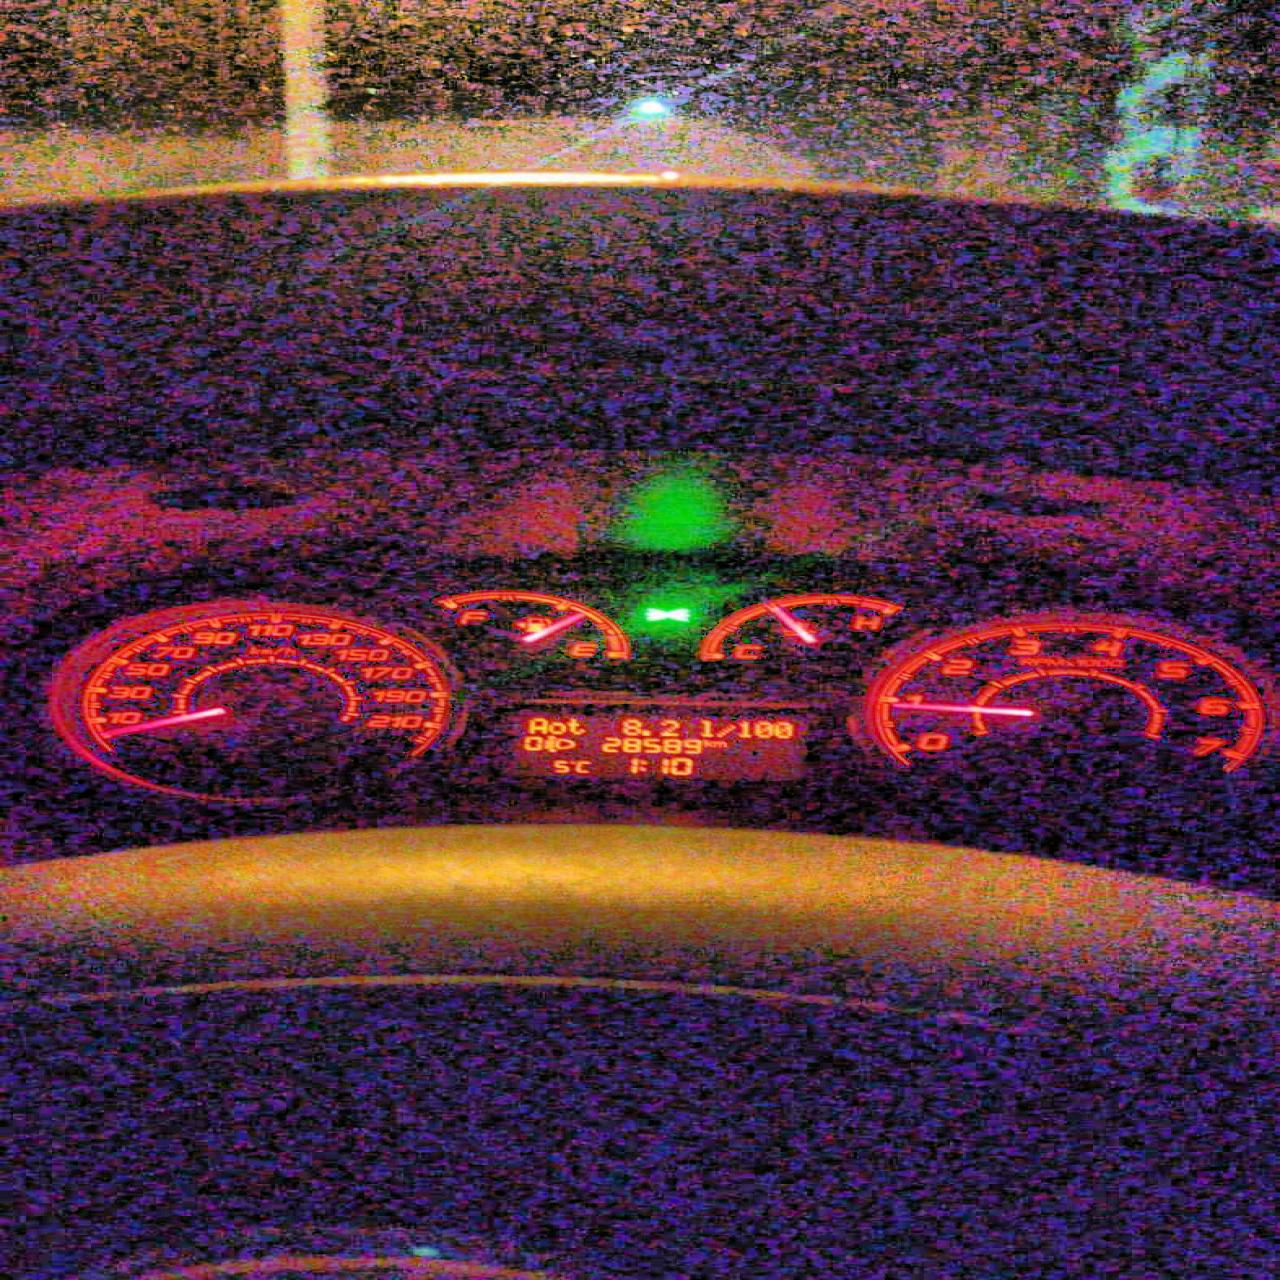-: (639, 728, 651, 735)
0: (668, 756, 692, 775), (772, 720, 794, 738), (754, 720, 772, 738), (520, 735, 542, 750)
1: (737, 719, 751, 738), (629, 756, 638, 774), (660, 757, 667, 775)
2: (658, 719, 678, 736), (600, 736, 620, 753)
5: (642, 737, 660, 754), (551, 760, 567, 772)
8: (660, 737, 681, 753), (621, 717, 639, 735), (621, 737, 641, 753)
9: (681, 737, 701, 753)
X: (565, 716, 586, 735), (527, 716, 545, 734), (716, 722, 735, 736), (697, 719, 710, 737), (546, 721, 565, 734), (574, 760, 591, 772), (710, 740, 727, 747), (701, 738, 712, 748), (639, 760, 646, 770)
odometer: (486, 700, 832, 790)
